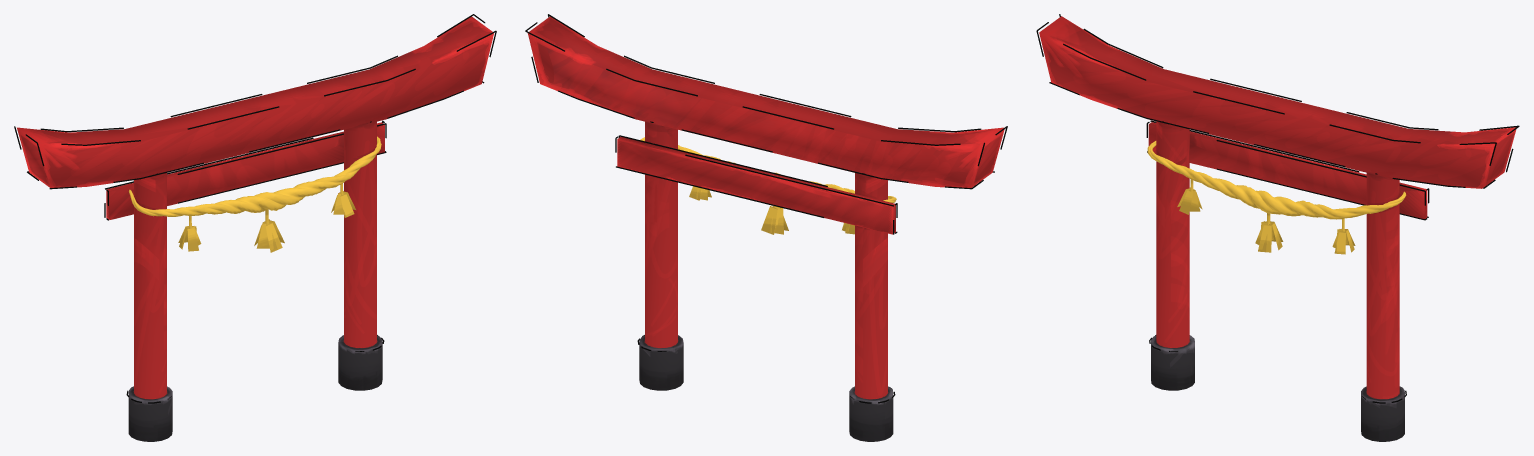
File: jap_door.glb
The picture shows the model from 3 angles, left to right: view 1: azimuth 30°, elevation 25°; view 2: azimuth 150°, elevation 25°; view 3: azimuth 330°, elevation 25°; orthographic projection.
Parts seen in each view (by area): view 1: Visulki, Pencil; view 2: Visulki, Pencil; view 3: Visulki, Pencil.
Boxes of the visible parts, x1,y1,x2,y2 form: Visulki: (17,16,493,441); Pencil: (14,14,496,403); Visulki: (527,16,1004,441); Pencil: (525,14,1007,403); Visulki: (1039,16,1516,441); Pencil: (1036,14,1519,403).
Size of the model in its own units: 23.91 by 16.32 by 2.67.
Materials: 2 (1 with a texture image).
